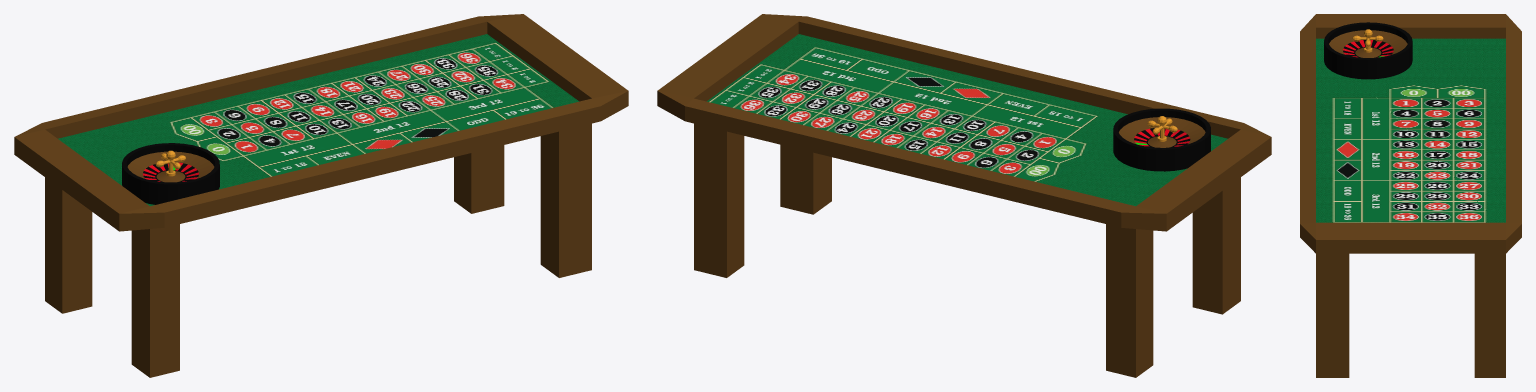
Rendered from ruletka.fbx.
3 views of the same model, side by side, from view 1: azimuth 30°, elevation 25°; view 2: azimuth 150°, elevation 25°; view 3: azimuth 270°, elevation 25° (orthographic). The views are drawn at different scales.
Visible parts, largest first — view 1: STOL, PLANSZA, RULETKA; view 2: STOL, PLANSZA, RULETKA; view 3: PLANSZA, STOL, RULETKA.
Boxes of the visible parts, bbox=[...] form: STOL: bbox=[14, 14, 628, 377]; PLANSZA: bbox=[58, 34, 578, 206]; RULETKA: bbox=[122, 143, 219, 204]; STOL: bbox=[657, 14, 1271, 377]; PLANSZA: bbox=[707, 34, 1227, 206]; RULETKA: bbox=[1113, 108, 1210, 171]; PLANSZA: bbox=[1316, 38, 1505, 222]; STOL: bbox=[1300, 14, 1521, 377]; RULETKA: bbox=[1324, 22, 1412, 79].
Size of the model in its own units: 2400 by 872 by 1000.
7 materials, 1 textured.
